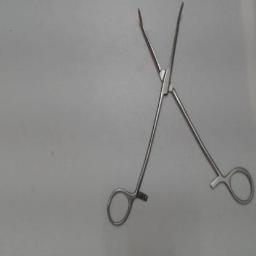Lahey Forceps: (104, 2, 256, 230)
